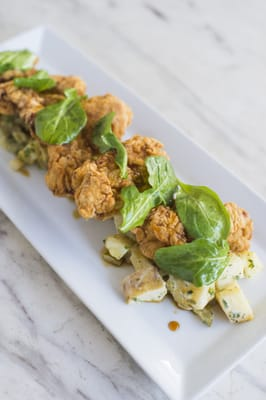curry: (0, 19, 263, 397)
